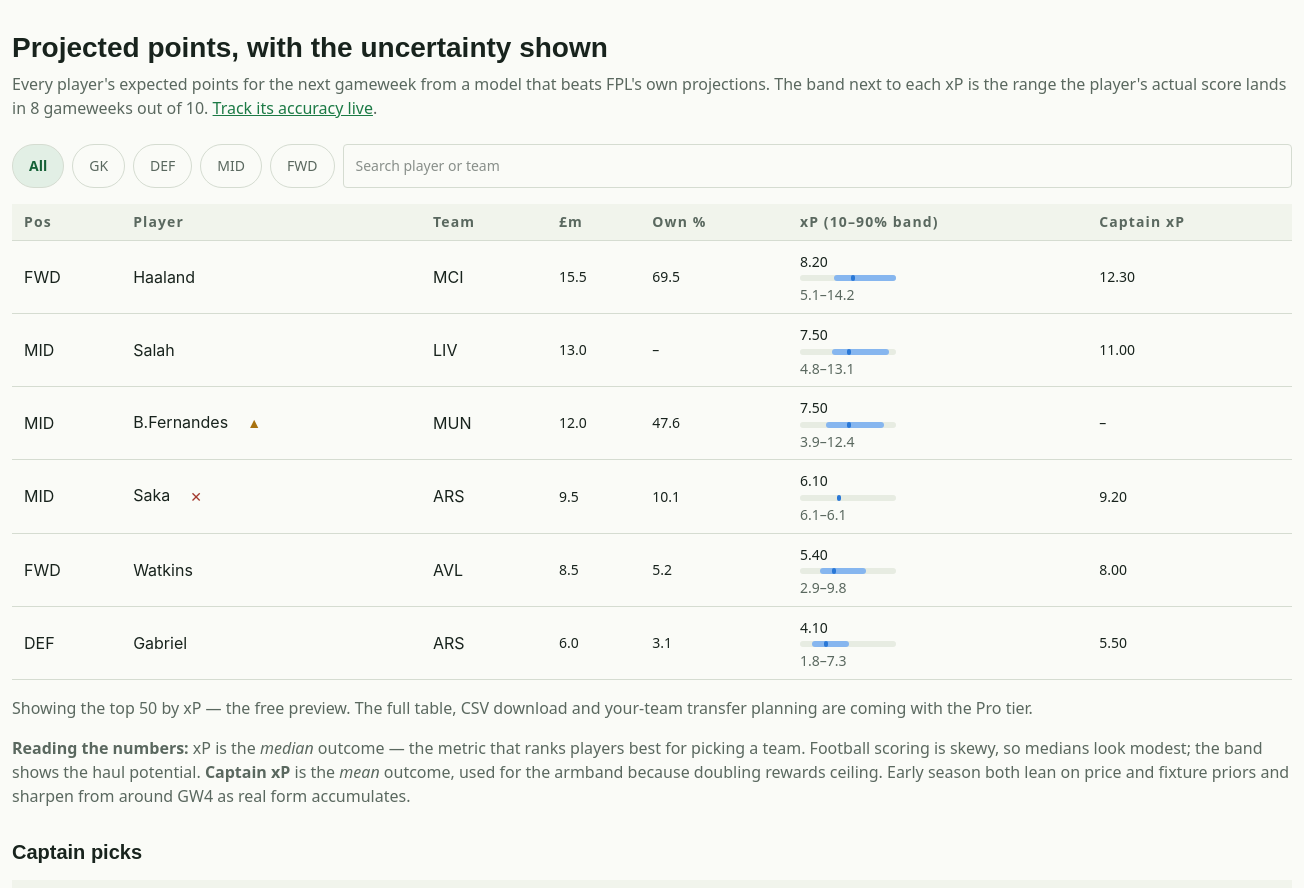
Test case: XpTable (Task 2 — filters, verbatim copy, page meta) › shows 'No players match' — not the generic empty state — for a zero-match filter
expect the text "Haaland" is shown: met, box top-left (121, 240), bottom-right (421, 314)
In the search field: (817, 166) top-left (342, 144), bottom-right (1292, 188), type "zzz-no-such-player"
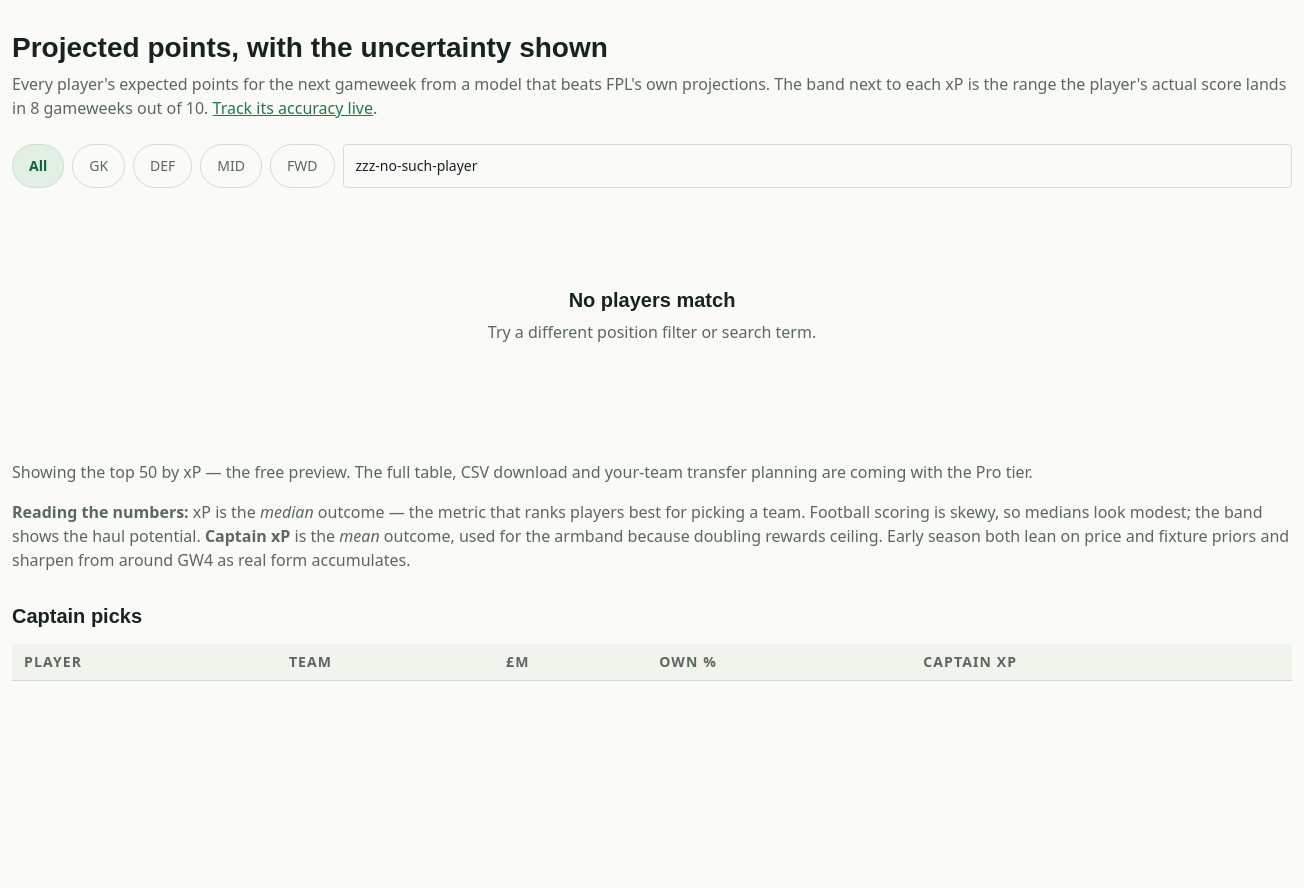
expect the heading "No players match" is shown: met, box top-left (569, 288), bottom-right (735, 312)
